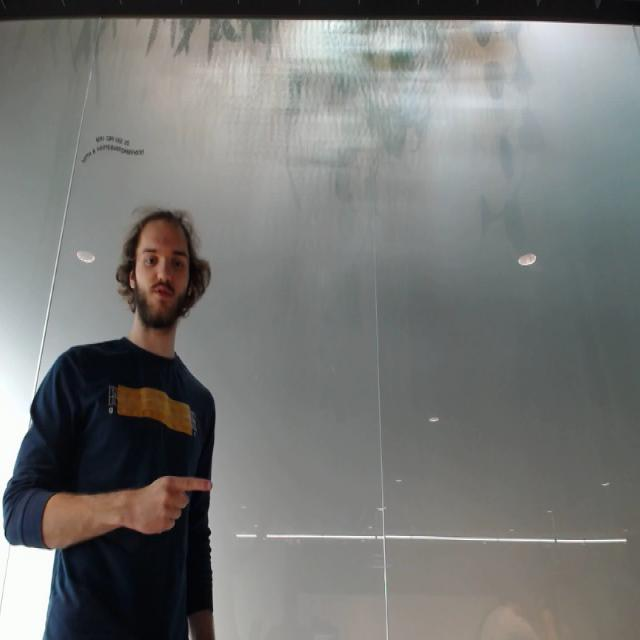right: (135, 466, 215, 538)
